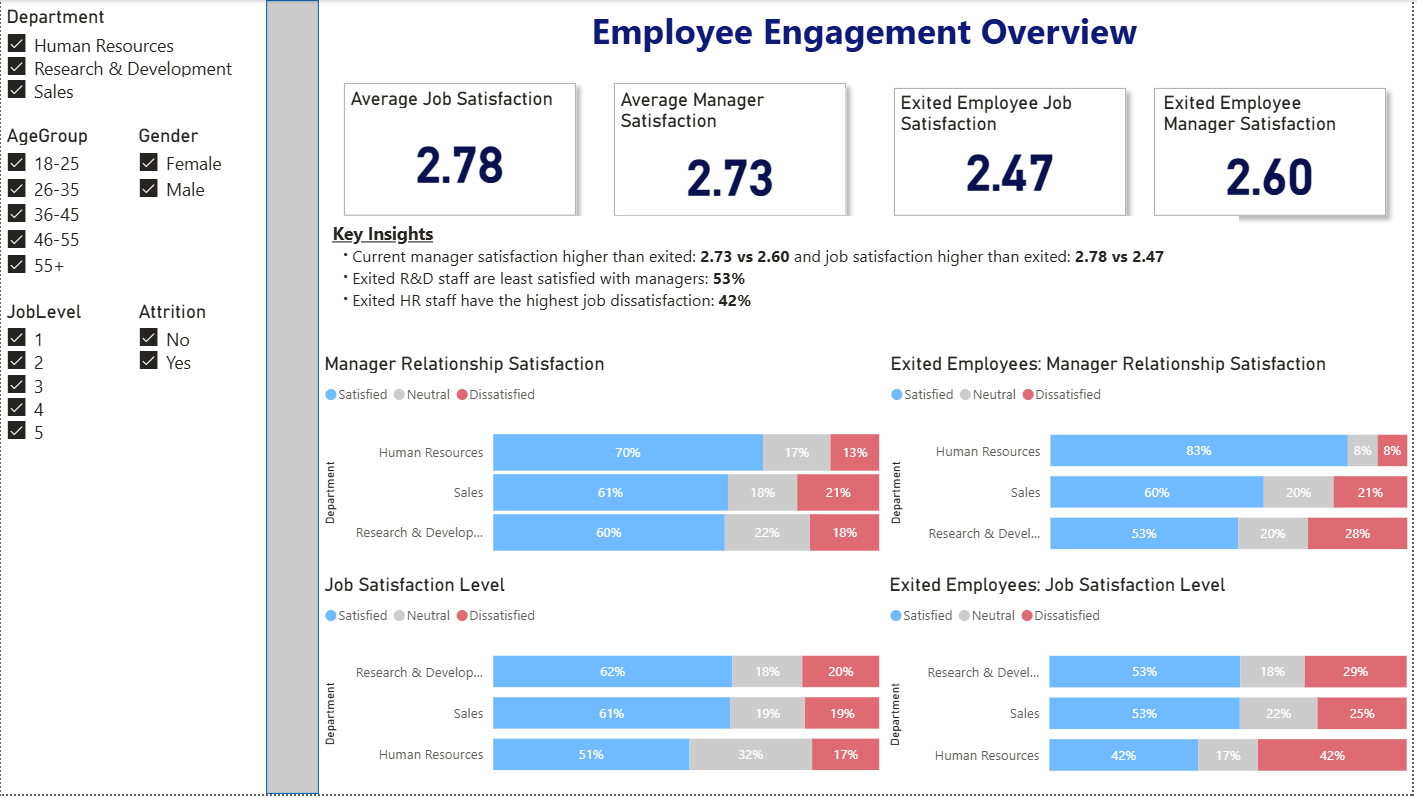

The page's visual inventory and layout, read from the dashboard file:
{"tool":"powerbi","page":{"name":"Engagement Level","canvas":[1280,720],"ordinal":2},"visuals":[{"type":"shape","box":[302.1,66,228.5,138.4],"z":0},{"type":"card","title":"Average Job Satisfaction","fields":{"Values":["Avg(Table 1 (HR_Analytics).JobSatisfaction)"]},"box":[312,79,207.7,112.1],"z":1000},{"type":"shape","box":[240,0,48,720],"z":2000},{"type":"listSlicer","fields":{"Values":["Table 1 (HR_Analytics).Department"]},"box":[0,0,240,240],"z":3000},{"type":"listSlicer","fields":{"Values":["Table 1 (HR_Analytics).Gender"]},"box":[120,112,120,264],"z":4000},{"type":"listSlicer","fields":{"Values":["Table 1 (HR_Analytics).AgeGroup"]},"box":[0,112,120,264],"z":5000},{"type":"listSlicer","fields":{"Values":["Table 1 (HR_Analytics).JobLevel"]},"box":[0,272,120,248],"z":6000},{"type":"listSlicer","fields":{"Values":["Table 1 (HR_Analytics).Attrition"]},"box":[120,272,120,248],"z":7000},{"type":"shape","box":[547.2,66,228.5,138.4],"z":8000},{"type":"card","title":"Average Manager Satisfaction","fields":{"Values":["Avg(Table 1 (HR_Analytics).RelationshipSatisfaction)"]},"box":[556.7,79.5,209.2,115.5],"z":9000},{"type":"barChart","title":"Job Satisfaction Level","fields":{"Category":["Table 1 (HR_Analytics).Department"],"Y":["Table 1 (HR_Analytics).Job Satisfied % _ 2","Table 1 (HR_Analytics).Job Neutral %","Table 1 (HR_Analytics).Job Dissatisfied %"]},"box":[288.1,519.7,513.3,200.3],"z":10000},{"type":"barChart","title":"Manager Relationship Satisfaction ","fields":{"Category":["Table 1 (HR_Analytics).Department"],"Y":["Table 1 (HR_Analytics).Relationship Satisfied %","Table 1 (HR_Analytics).Relationship Neutral %","Table 1 (HR_Analytics).Relationship Dissatisfied %"]},"box":[288.1,319.5,513.3,200.3],"z":11000},{"type":"barChart","title":"Exited Employees: Manager Relationship Satisfaction ","fields":{"Category":["Table 1 (HR_Analytics).Department"],"Y":["Table 1 (HR_Analytics).Relationship Satisfied %","Table 1 (HR_Analytics).Relationship Neutral %","Table 1 (HR_Analytics).Relationship Dissatisfied %"]},"box":[801.4,319.5,478.6,200.3],"z":12000},{"type":"barChart","title":"Exited Employees: Job Satisfaction Level","fields":{"Category":["Table 1 (HR_Analytics).Department"],"Y":["Table 1 (HR_Analytics).Job Satisfied % _ 2","Table 1 (HR_Analytics).Job Neutral %","Table 1 (HR_Analytics).Job Dissatisfied %"]},"box":[800.8,519.4,479.2,201],"z":13000},{"type":"shape","box":[801,70.4,228.5,134],"z":14000},{"type":"card","title":"Exited Employee Job Satisfaction","fields":{"Values":["Avg(Table 1 (HR_Analytics).JobSatisfaction)"]},"box":[810.8,82.4,207.7,100],"z":15000},{"type":"shape","box":[1036.1,70.4,228.5,134],"z":16000},{"type":"card","title":"Exited Employee Manager Satisfaction","fields":{"Values":["Avg(Table 1 (HR_Analytics).RelationshipSatisfaction)"]},"box":[1049.3,82.4,202.2,107.7],"z":17000},{"type":"textbox","box":[0,520,150,200],"z":18000},{"type":"textbox","box":[295.6,195.6,827.3,108.8],"z":20000},{"type":"textbox","box":[530.7,0,597.7,54.9],"z":21000}]}

Visuals, with their boxes in screenshot pixels (x1, y1, x2, y2), scaled from the page's 1280x720 canvas onto the 1417x798 screenshot:
shape: box(334, 73, 587, 227)
"Average Job Satisfaction" card: box(345, 88, 575, 212)
shape: box(266, 0, 319, 797)
listSlicer - Table 1 (HR_Analytics).Department: box(0, 0, 266, 266)
listSlicer - Table 1 (HR_Analytics).Gender: box(133, 124, 266, 417)
listSlicer - Table 1 (HR_Analytics).AgeGroup: box(0, 124, 133, 417)
listSlicer - Table 1 (HR_Analytics).JobLevel: box(0, 301, 133, 576)
listSlicer - Table 1 (HR_Analytics).Attrition: box(133, 301, 266, 576)
shape: box(606, 73, 859, 227)
"Average Manager Satisfaction" card: box(616, 88, 848, 216)
"Job Satisfaction Level" barChart: box(319, 576, 887, 797)
"Manager Relationship Satisfaction " barChart: box(319, 354, 887, 576)
"Exited Employees: Manager Relationship Satisfaction " barChart: box(887, 354, 1416, 576)
"Exited Employees: Job Satisfaction Level" barChart: box(887, 576, 1416, 797)
shape: box(887, 78, 1140, 227)
"Exited Employee Job Satisfaction" card: box(898, 91, 1128, 202)
shape: box(1147, 78, 1400, 227)
"Exited Employee Manager Satisfaction" card: box(1162, 91, 1385, 211)
textbox: box(0, 576, 166, 797)
textbox: box(327, 217, 1243, 337)
textbox: box(588, 0, 1249, 61)
